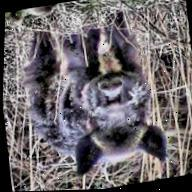boar: (15, 15, 190, 192)
